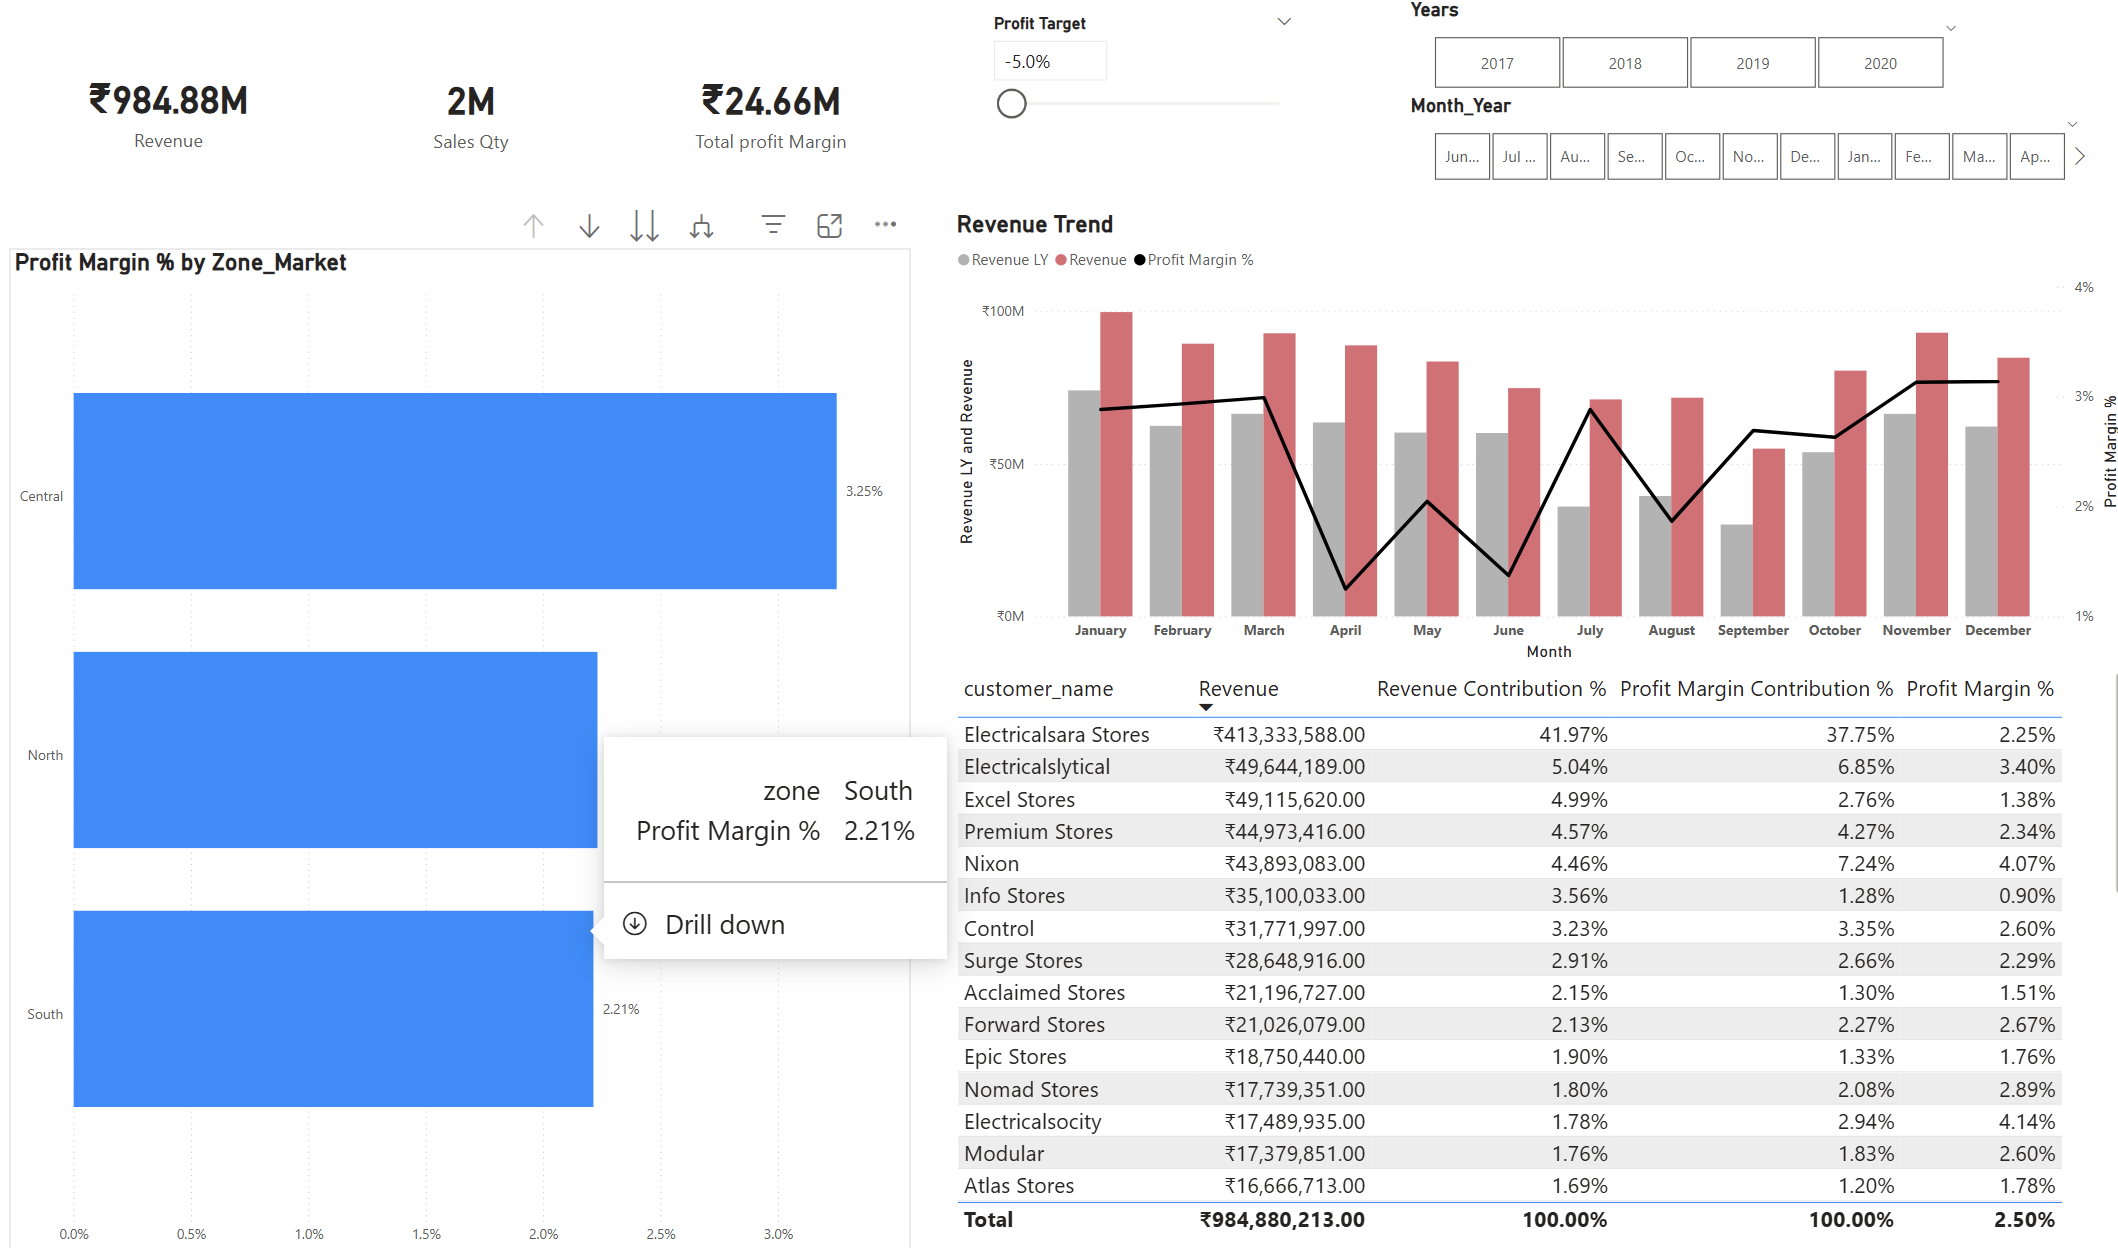

This screenshot's page, from the dashboard's own definition file:
{"tool":"powerbi","page":{"name":"Performance Analysis","canvas":[1850,1100],"ordinal":2},"visuals":[{"type":"card","fields":{"Values":["BaseMeasures.Revenue"]},"box":[27.7,0,246,211.3],"z":0},{"type":"card","fields":{"Values":["BaseMeasures.Sales Qty"]},"box":[290.2,0,246.8,212],"z":1000},{"type":"slicer","title":"Years","fields":{"Values":["sales date.year"]},"box":[1224.7,8.7,492,84.9],"z":2000},{"type":"slicer","title":"Month_Year","fields":{"Values":["sales date.cy_date"]},"box":[1224.7,91.8,597.6,81.4],"z":3000},{"type":"tableEx","title":"Top 5 Customers ","fields":{"Values":["sales customers.custmer_name","BaseMeasures.Revenue","BaseMeasures.Revenue Contribution %","BaseMeasures.Profit Margin Contribution %","BaseMeasures.Profit Margin %"]},"box":[830.6,589.1,1025.3,498.7],"z":4000},{"type":"lineClusteredColumnComboChart","title":"Revenue Trend","fields":{"Category":["sales date.cy_date.Variation.Date Hierarchy.Year","sales date.cy_date.Variation.Date Hierarchy.Quarter","sales date.cy_date.Variation.Date Hierarchy.Month","sales date.cy_date.Variation.Date Hierarchy.Day"],"Y":["BaseMeasures.Revenue LY","BaseMeasures.Revenue"],"Y2":["BaseMeasures.Profit Margin %"]},"box":[830.1,193.6,1019.9,396.4],"z":5000},{"type":"card","fields":{"Values":["BaseMeasures.Total profit Margin"]},"box":[552.6,0,243.3,212],"z":6000},{"type":"barChart","title":"Profit Margin % by Zone_Market","fields":{"Y":["BaseMeasures.Profit Margin %"],"Category":["sales markets.zone","sales markets.markets_name"]},"box":[12.1,225.2,783,874.8],"z":7000},{"type":"slicer","fields":{"Values":["Profit Target.Profit Target"]},"box":[855.7,17.3,284.1,150.7],"z":8000}]}

Visuals, with their boxes in screenshot pixels (x1, y1, x2, y2), scaled from the page's 1850x1100 canvas onto the 2118x1248 screenshot:
card - BaseMeasures.Revenue: box=[32, 0, 313, 240]
card - BaseMeasures.Sales Qty: box=[332, 0, 615, 241]
"Years" slicer: box=[1402, 10, 1965, 106]
"Month_Year" slicer: box=[1402, 104, 2086, 197]
"Top 5 Customers " tableEx: box=[951, 668, 2117, 1234]
"Revenue Trend" lineClusteredColumnComboChart: box=[950, 220, 2117, 669]
card - BaseMeasures.Total profit Margin: box=[633, 0, 911, 241]
"Profit Margin % by Zone_Market" barChart: box=[14, 255, 910, 1247]
slicer - Profit Target.Profit Target: box=[980, 20, 1305, 191]
